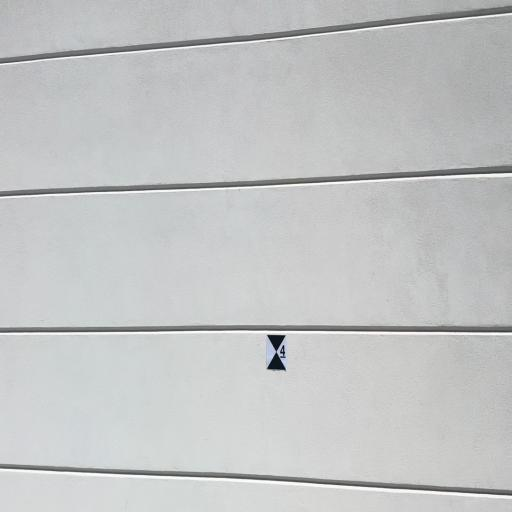target4: (266, 334, 288, 370)
